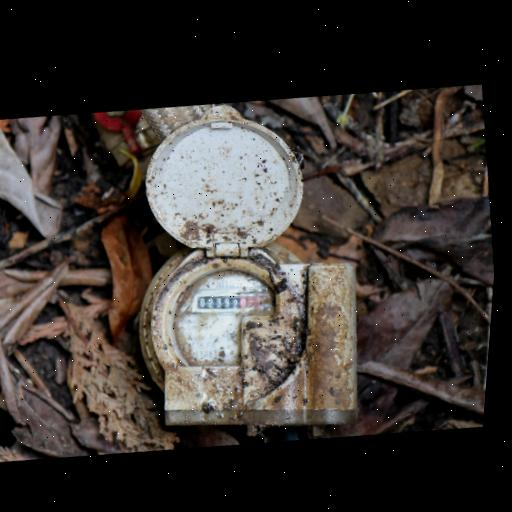0: (195, 294, 208, 309), (237, 294, 249, 309)
2: (204, 295, 217, 309), (229, 295, 241, 310)
3: (213, 294, 225, 309)
9: (221, 295, 233, 309)
border_water_meter_number: (187, 279, 268, 321)
